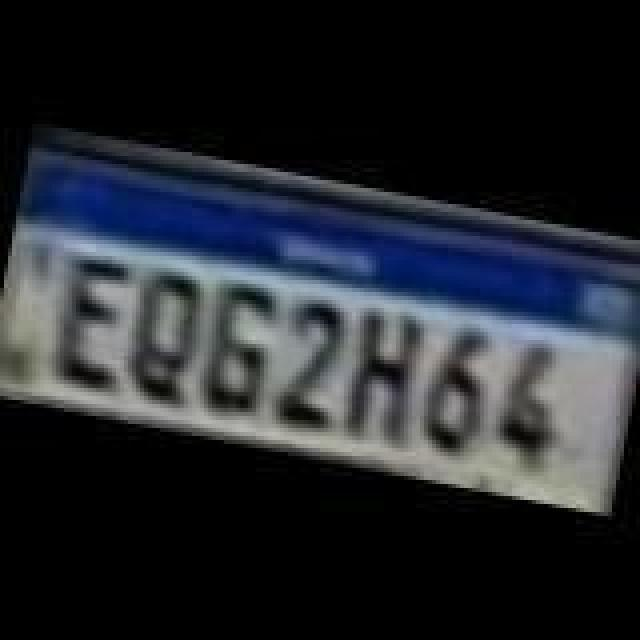2: (264, 292, 352, 428)
4: (484, 332, 580, 476)
6: (412, 312, 500, 456)
E: (50, 248, 142, 392)
G: (198, 278, 282, 418)
H: (338, 300, 430, 444)
Q: (120, 260, 208, 396)
